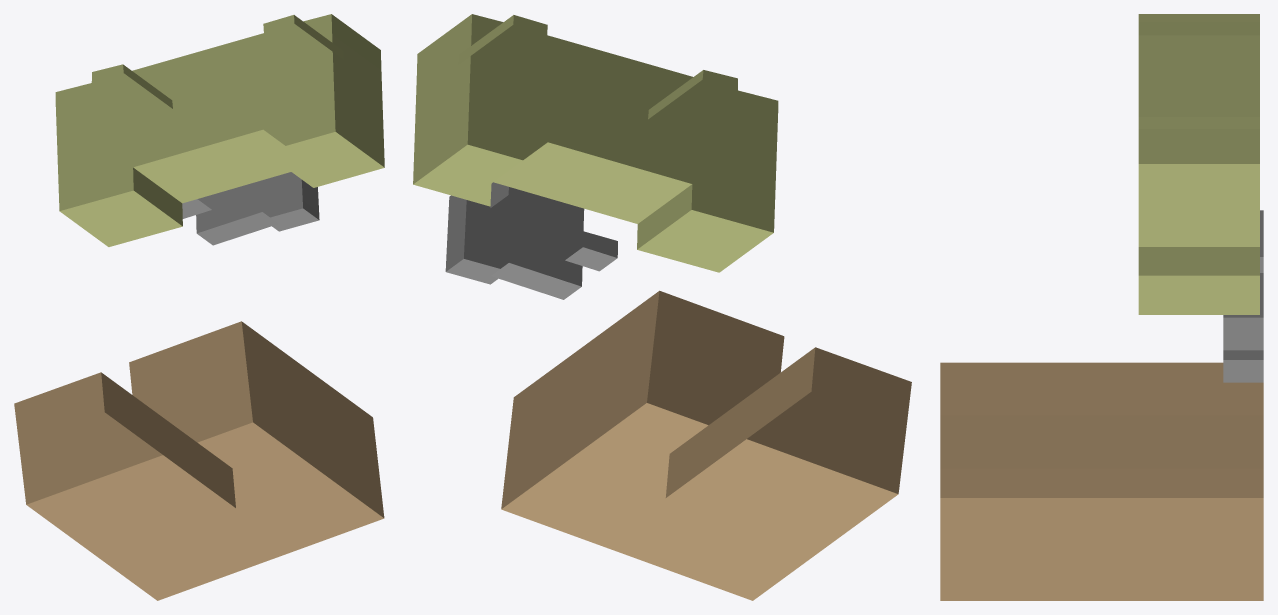
3 views of the same model, side by side, from view 1: azimuth 30°, elevation 25°; view 2: azimuth 150°, elevation 25°; view 3: azimuth 270°, elevation 25° (orthographic). The views are drawn at different scales.
Visible parts, largest first — view 1: 0_1_2_0_1_3_0_0_3; view 2: 0_1_2_0_1_3_0_0_3; view 3: 0_1_2_0_1_3_0_0_3.
Boxes of the visible parts, x1,y1,x2,y2 form: 0_1_2_0_1_3_0_0_3: (14, 14, 384, 600); 0_1_2_0_1_3_0_0_3: (413, 14, 911, 600); 0_1_2_0_1_3_0_0_3: (940, 14, 1263, 600).
Bounding box in the file's own units: 33.74 × 42.96 × 24.
